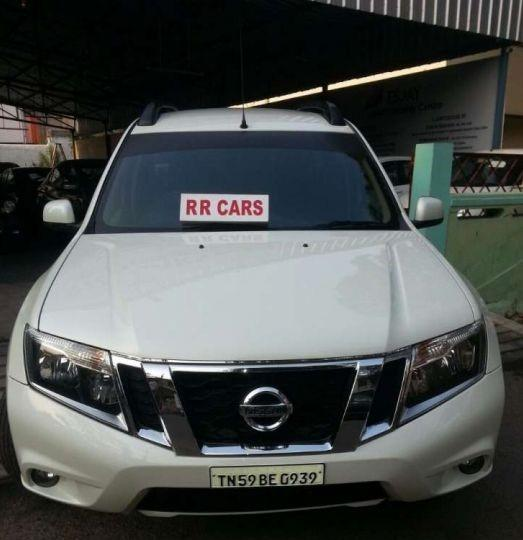License-Plate: (214, 460, 330, 498)
